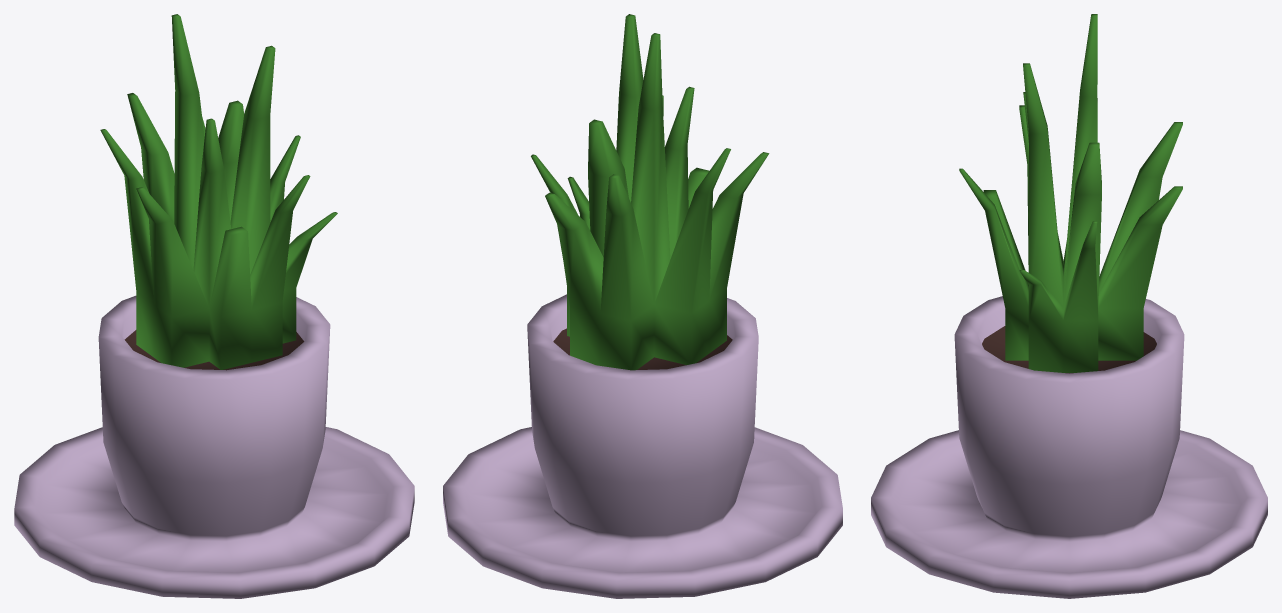
The model's file is pink potplant.fbx.
3 views of the same model, side by side, from view 1: azimuth 30°, elevation 25°; view 2: azimuth 150°, elevation 25°; view 3: azimuth 270°, elevation 25° (orthographic).
Parts seen in each view (by area): view 1: Cylinder; view 2: Cylinder; view 3: Cylinder.
Part boxes in pixels (left/top/right/bottom): Cylinder: left=14, top=14, right=414, bottom=598; Cylinder: left=443, top=14, right=842, bottom=598; Cylinder: left=871, top=14, right=1267, bottom=598.
Bounding box in the file's own units: 17.88 × 24.22 × 17.88.
